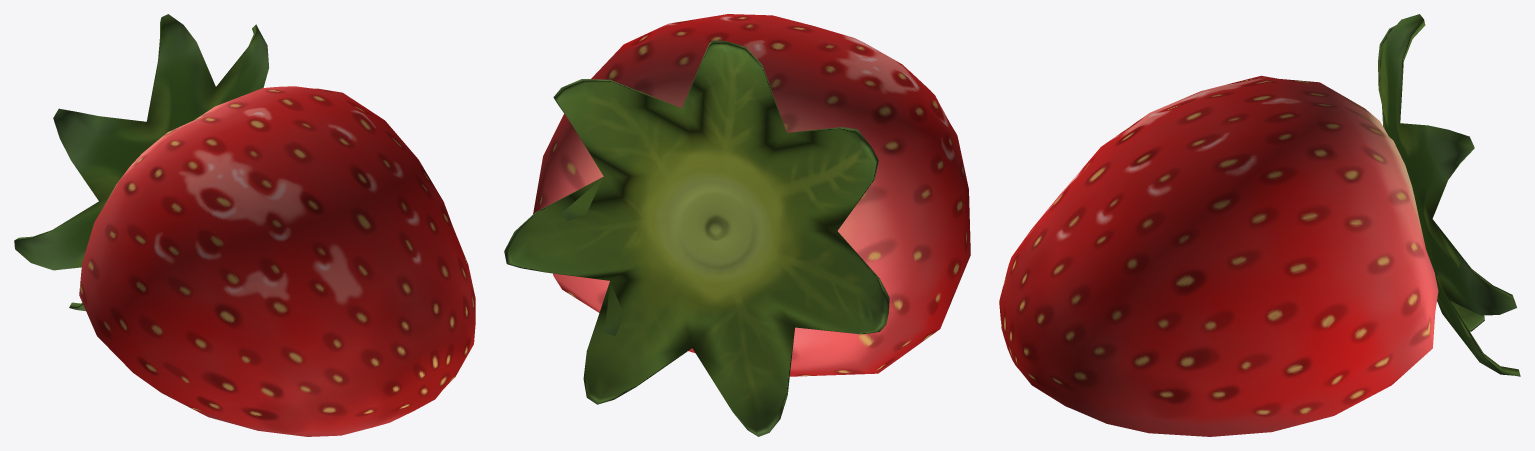
File: strawberry.obj
3 views of the same model, side by side, from view 1: azimuth 30°, elevation 25°; view 2: azimuth 150°, elevation 25°; view 3: azimuth 270°, elevation 25° (orthographic). The views are drawn at different scales.
Visible parts, largest first — view 1: dynamic; view 2: dynamic; view 3: dynamic.
Part boxes in pixels (x1=…): dynamic: x1=14, y1=14, x2=475, y2=436; dynamic: x1=504, y1=14, x2=970, y2=436; dynamic: x1=999, y1=14, x2=1520, y2=436.
Size of the model in its own units: 1.31 by 1.2 by 1.53.
Materials: 1 (1 with a texture image).
